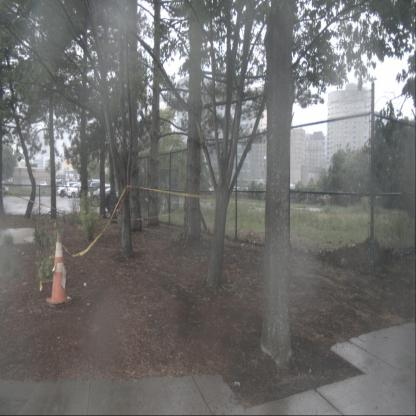cone: (46, 230, 72, 309)
